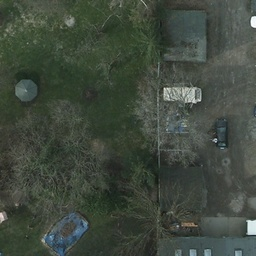car: (214, 116, 228, 150)
